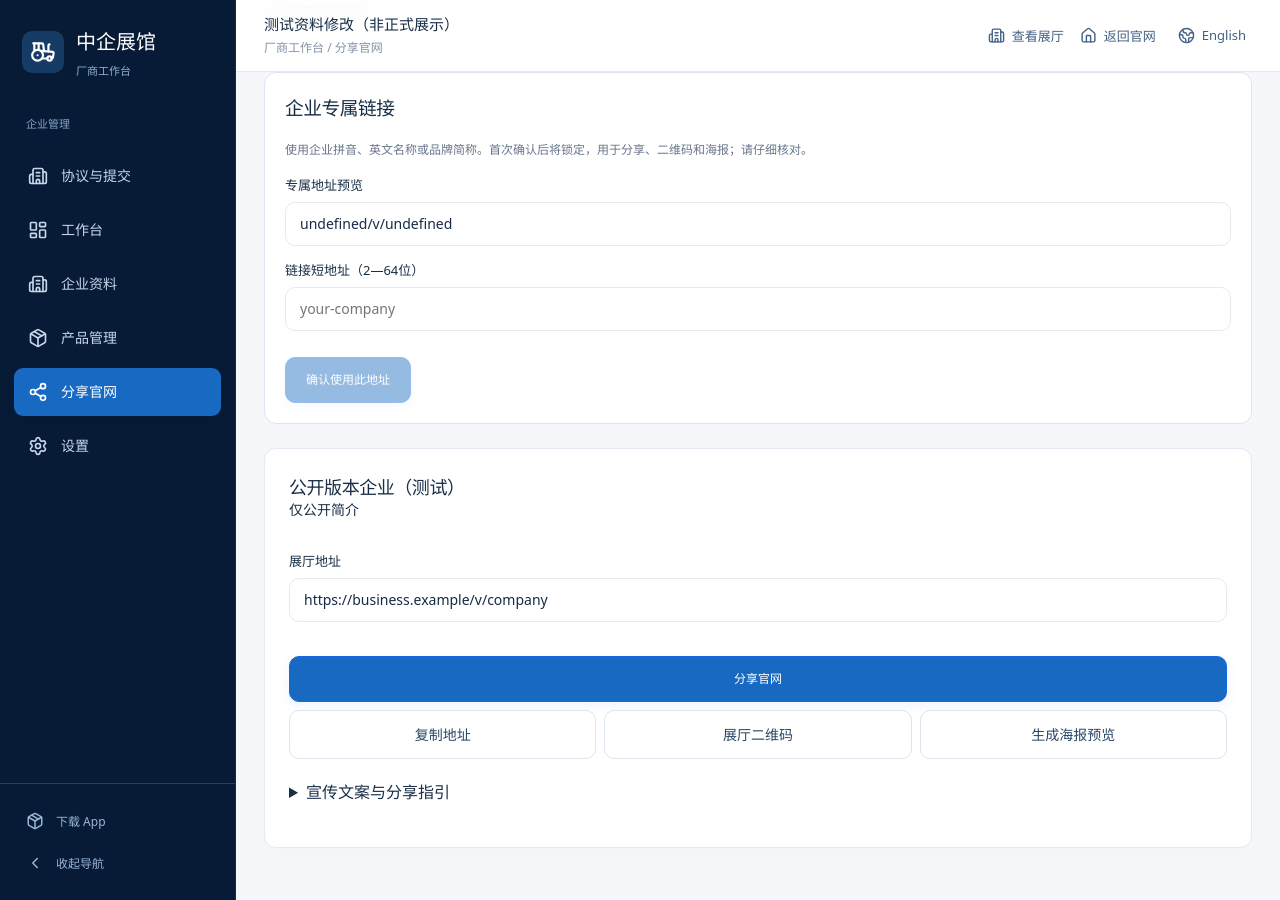
it: opens promotion directly with public data, a normalized address and a share fallback
(page scrolled)
Expected: the heading "公开版本企业（测试）" is shown, [289,474,464,498]
Expected: the element with class "share-company-preview" does not show "测试资料修改"
Click the button "分享官网" at (758, 679), box [289,656,1227,702]
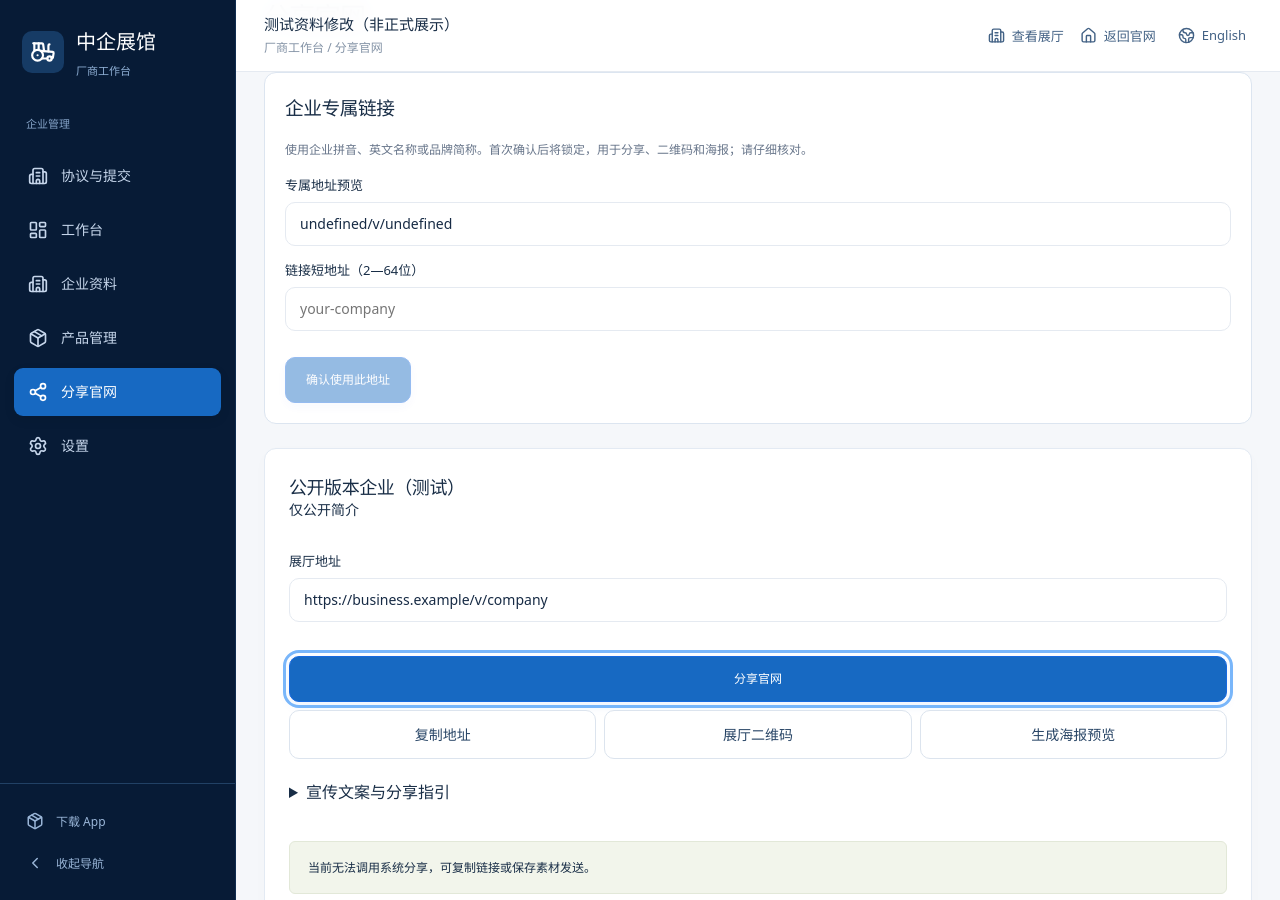
Expected: the button "复制地址" is shown, [289,710,596,759]
Now the text "当前无法调用系统分享，可复制链接或保存素材发送。" is shown, box [289,841,1227,894]
